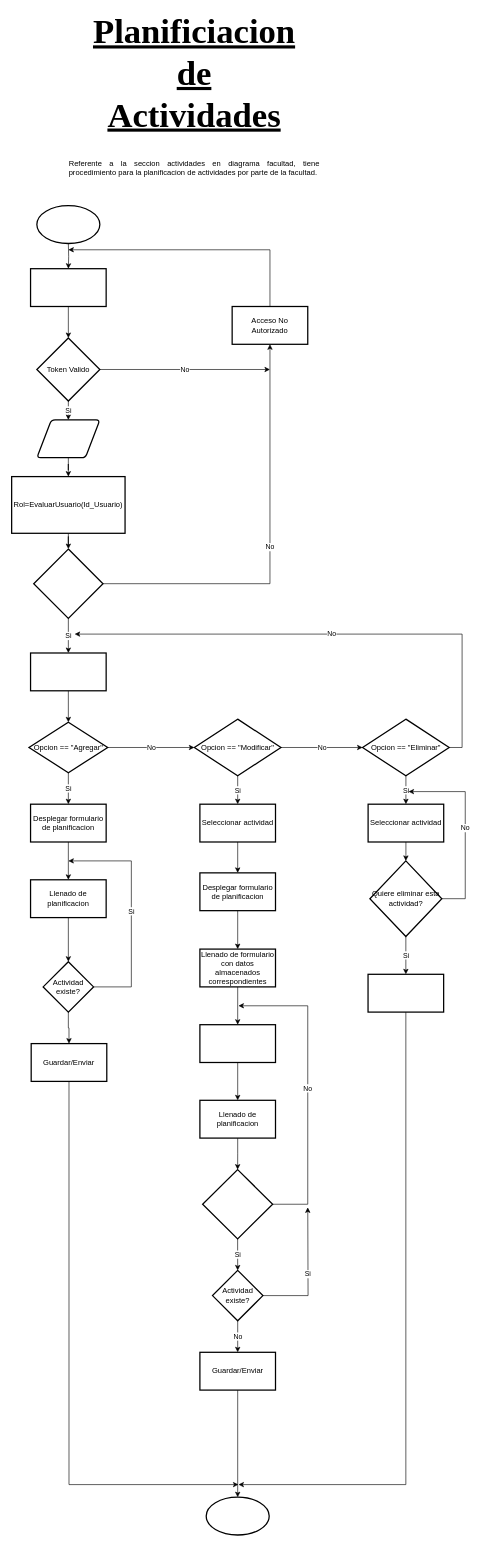
Image size: 481x1546. Some labels were removed from this diagram. The shapes that lost their labels are listed below. From the top down, each one's centre as x and y in pixels, then its label:
the point at 68,224: Inicio
the point at 68,287: Evaluar Token
the point at 68,438: String Rol
the point at 68,583: Rol == "Coordinador" || Rol == "Jefe"
the point at 68,671: Seleccionar opciones
the point at 405,992: Eliminar actividad
the point at 237,1043: Seleccionar campo a modificar
the point at 237,1204: Se modifico correctamente?
the point at 237,1515: Fin
